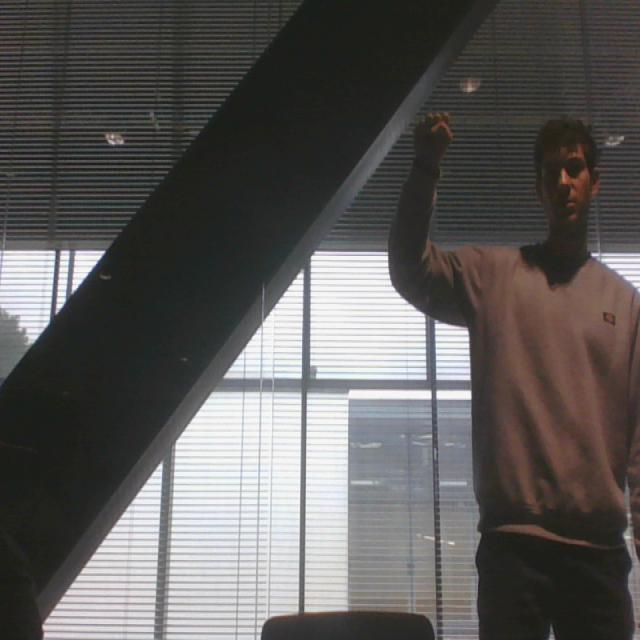stop: (410, 105, 455, 172)
